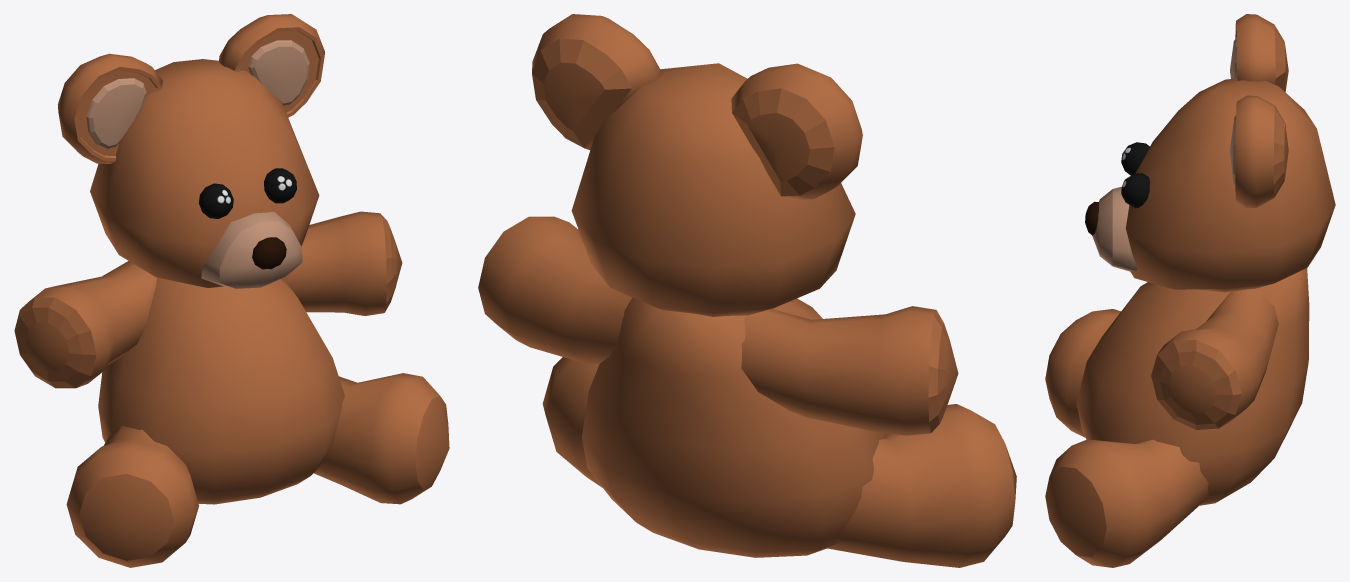
The model's file is TeddyBear_Final.FBX.
The picture shows the model from 3 angles, left to right: view 1: azimuth 30°, elevation 25°; view 2: azimuth 150°, elevation 25°; view 3: azimuth 270°, elevation 25°; orthographic projection. The views are drawn at different scales.
Visible parts, largest first — view 1: Sphere002; view 2: Sphere002; view 3: Sphere002.
Boxes of the visible parts, x1,y1,x2,y2 form: Sphere002: [14, 14, 449, 567]; Sphere002: [478, 14, 1016, 567]; Sphere002: [1045, 14, 1335, 567].
Bounding box in the file's own units: 16.33 × 18.59 × 11.14.
Materials: 1 (1 with a texture image).
